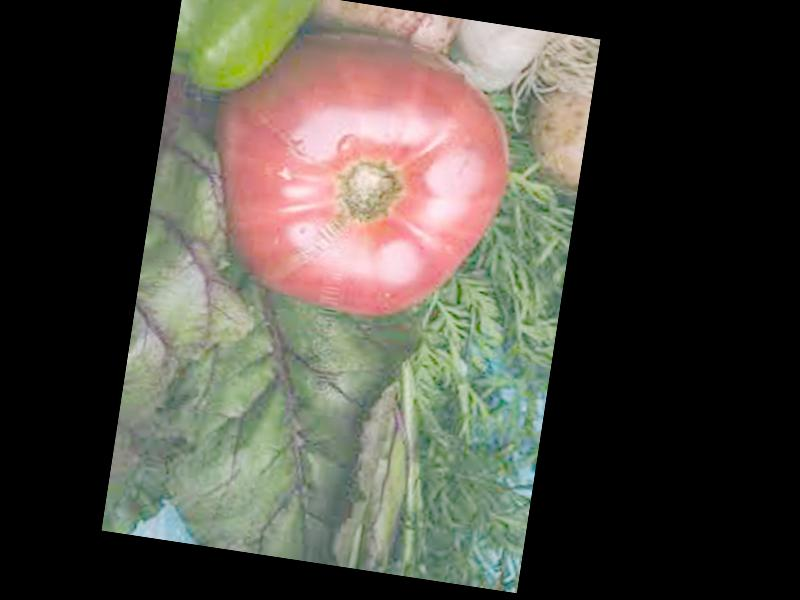Tomato: (191, 10, 525, 332)
